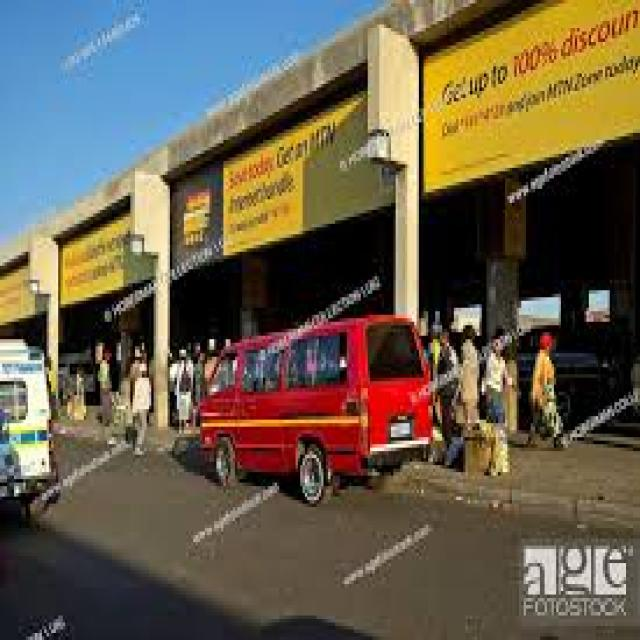MiniBus taxi: (198, 311, 440, 504)
